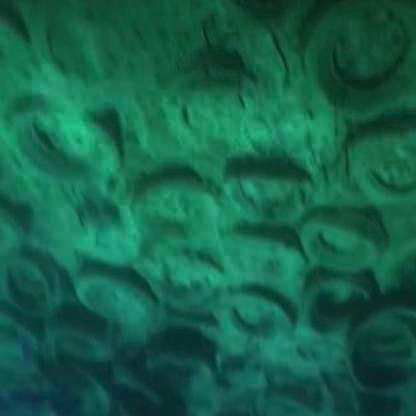tire: (295, 245, 416, 371), (296, 1, 413, 105), (217, 138, 314, 214), (363, 309, 416, 410)
